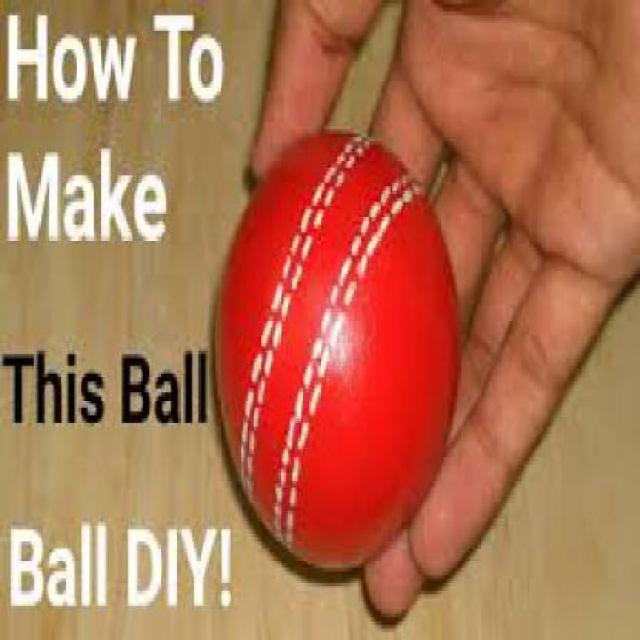ball: (148, 107, 481, 577)
